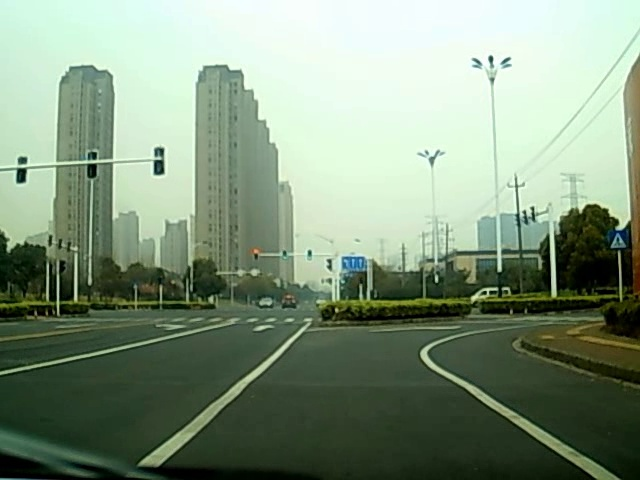Traffic_Light_go: (281, 248, 290, 262), (305, 247, 312, 261)
Traffic_Light_stop: (251, 248, 260, 262)
